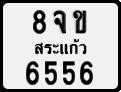letters: (25, 59, 40, 86), (61, 59, 76, 86), (52, 9, 68, 34), (72, 9, 88, 34), (32, 9, 47, 35), (79, 60, 94, 86), (43, 60, 58, 85)
province: (33, 38, 88, 56)
